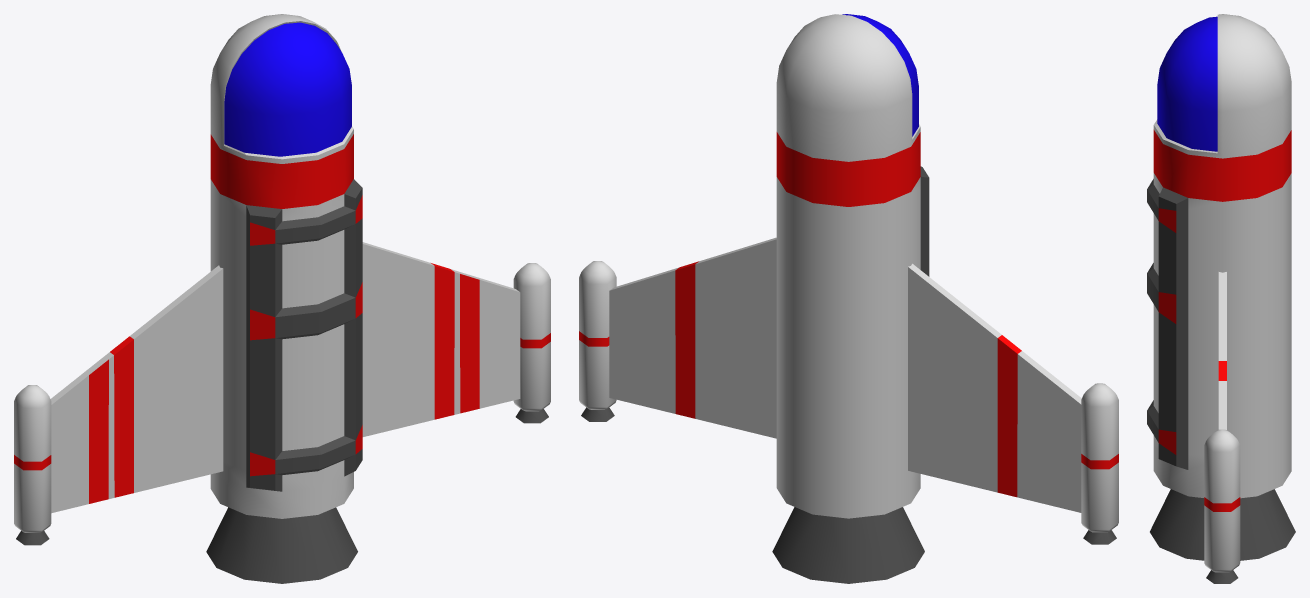
Rendered from Cruiser.fbx.
3 views of the same model, side by side, from view 1: azimuth 30°, elevation 25°; view 2: azimuth 150°, elevation 25°; view 3: azimuth 270°, elevation 25° (orthographic). The views are drawn at different scales.
Visible parts, largest first — view 1: Cruiser; view 2: Cruiser; view 3: Cruiser.
Part boxes in pixels (bbox=[...]): Cruiser: bbox=[14, 14, 550, 583]; Cruiser: bbox=[579, 14, 1118, 583]; Cruiser: bbox=[1147, 14, 1295, 583].
Size of the model in its own units: 96.95 by 93.31 by 24.61.
